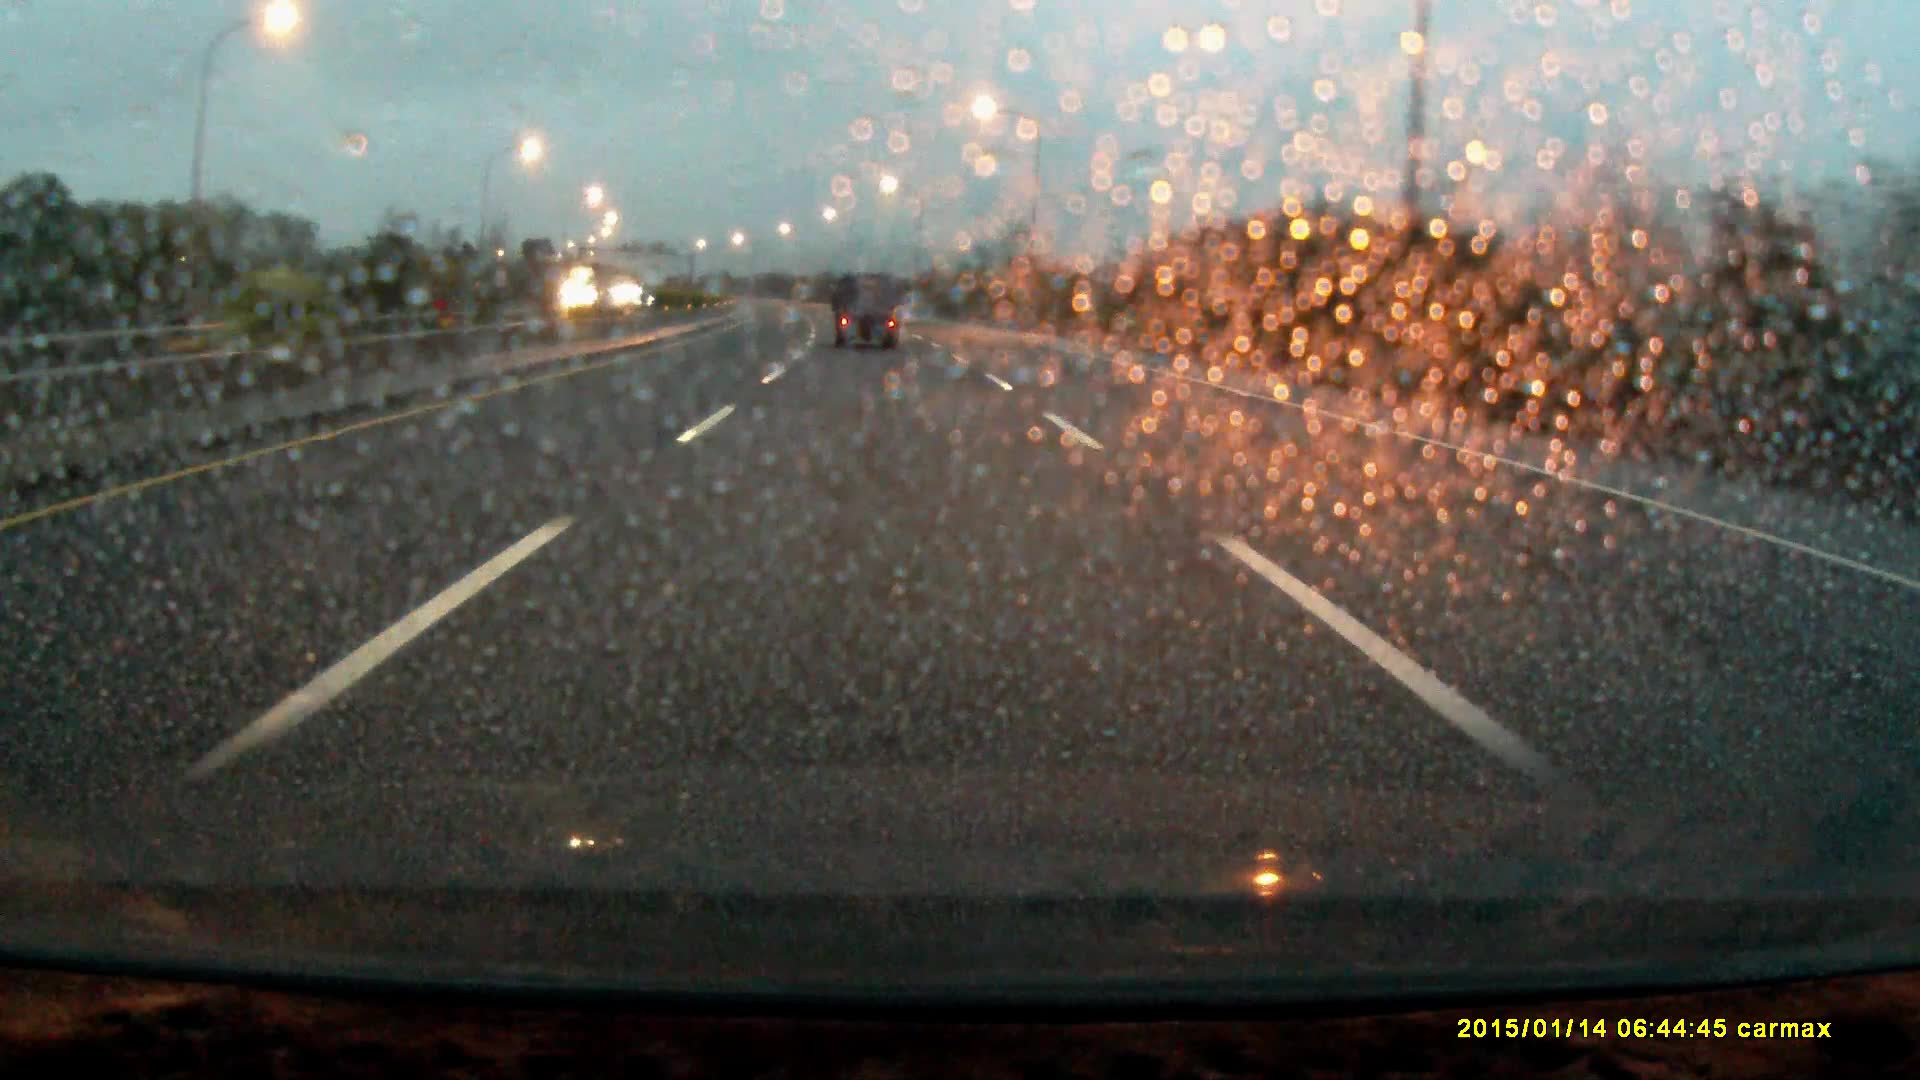vehicle: (832, 276, 902, 353), (566, 266, 633, 320)
